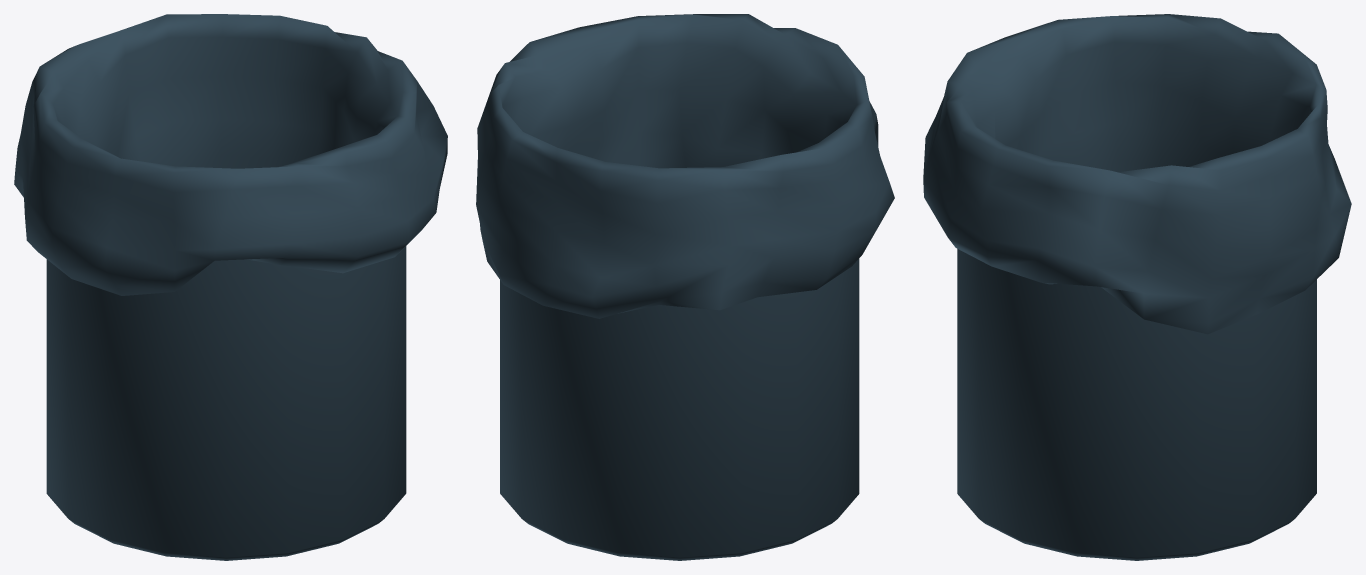
Rendered from pfol.fbx.
The picture shows the model from 3 angles, left to right: view 1: azimuth 30°, elevation 25°; view 2: azimuth 150°, elevation 25°; view 3: azimuth 270°, elevation 25°; orthographic projection.
Parts seen in each view (by area): view 1: Cylinder182; view 2: Cylinder182; view 3: Cylinder182.
Part boxes in pixels (<box>): Cylinder182: <box>14,14,447,560</box>; Cylinder182: <box>476,14,894,560</box>; Cylinder182: <box>923,14,1351,560</box>.
Size of what is drawn, in the model's own units: 0.8473 by 0.8348 by 0.8136.
